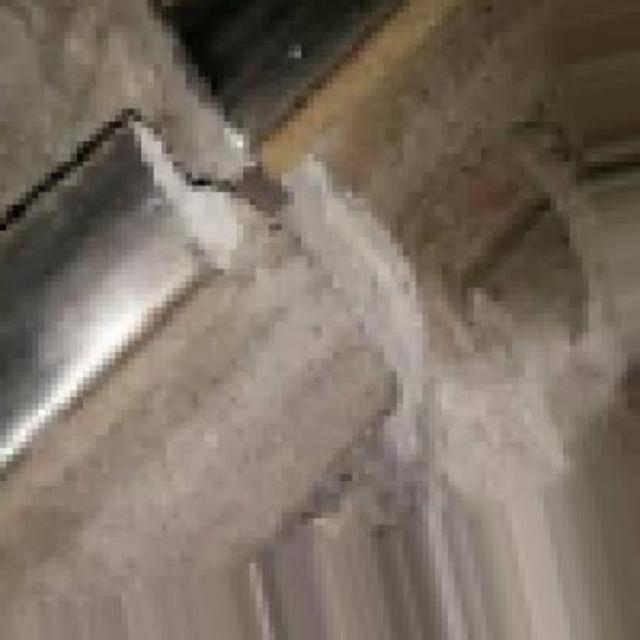defective: (0, 3, 515, 640)
